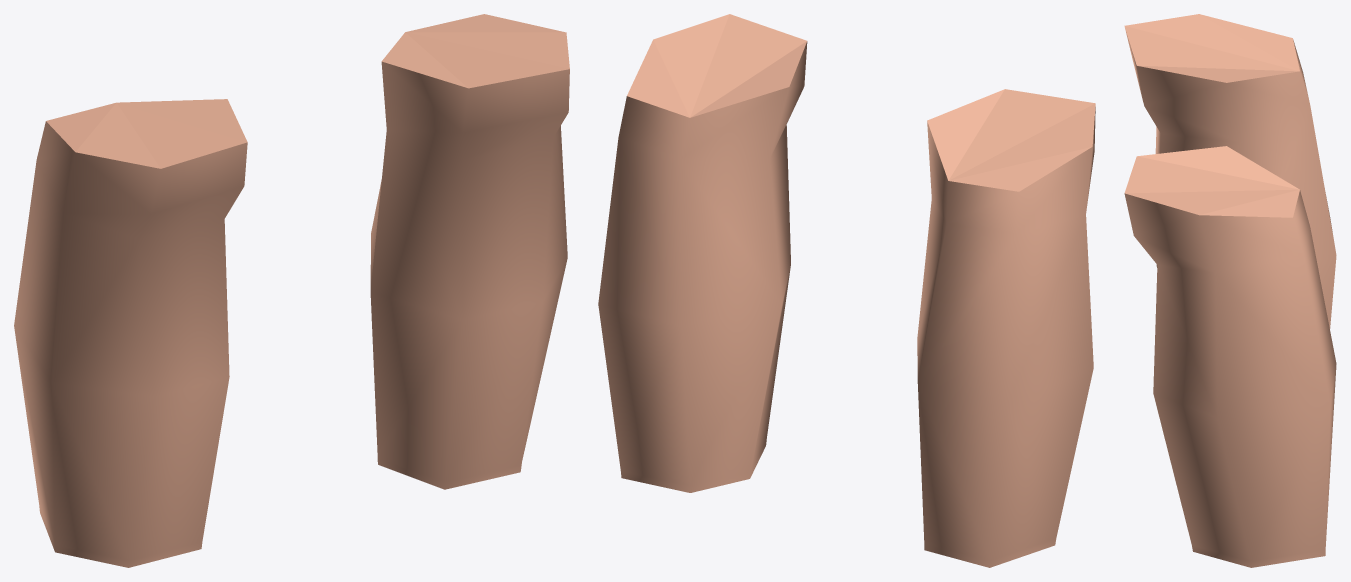
The model's file is AF_M_Leg_01.FBX.
3 views of the same model, side by side, from view 1: azimuth 30°, elevation 25°; view 2: azimuth 150°, elevation 25°; view 3: azimuth 270°, elevation 25° (orthographic). The views are drawn at different scales.
Visible parts, largest first — view 1: AF_M_Leg_01; view 2: AF_M_Leg_01; view 3: AF_M_Leg_01.
Boxes of the visible parts, x1,y1,x2,y2 form: AF_M_Leg_01: (14, 14, 569, 567); AF_M_Leg_01: (598, 14, 1095, 567); AF_M_Leg_01: (1124, 14, 1336, 567).
Bounding box in the file's own units: 272 × 217 × 115.
Materials: 1 (1 with a texture image).
